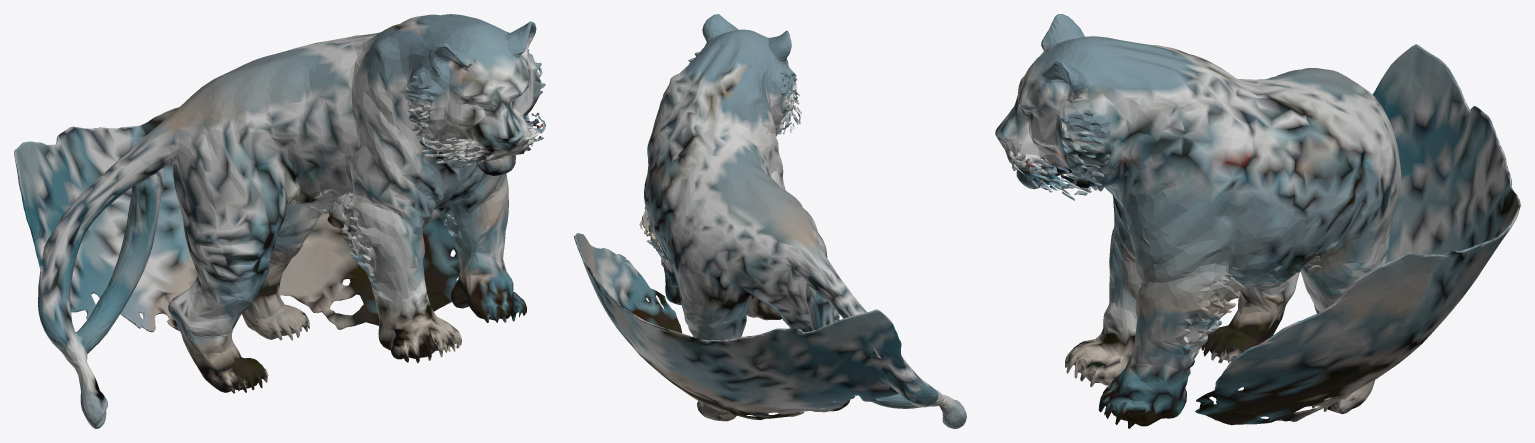
Rendered from spiderQueen.glb.
3 renders of one model, left to right at view 1: azimuth 30°, elevation 25°; view 2: azimuth 150°, elevation 25°; view 3: azimuth 270°, elevation 25°, orthographic. The views are drawn at different scales.
Visible parts, largest first — view 1: world; view 2: world; view 3: world.
Boxes of the visible parts, x1,y1,x2,y2 form: world: (14, 14, 545, 428); world: (574, 14, 966, 428); world: (995, 14, 1520, 428).
Bounding box in the file's own units: 1.16 × 1 × 1.15.
